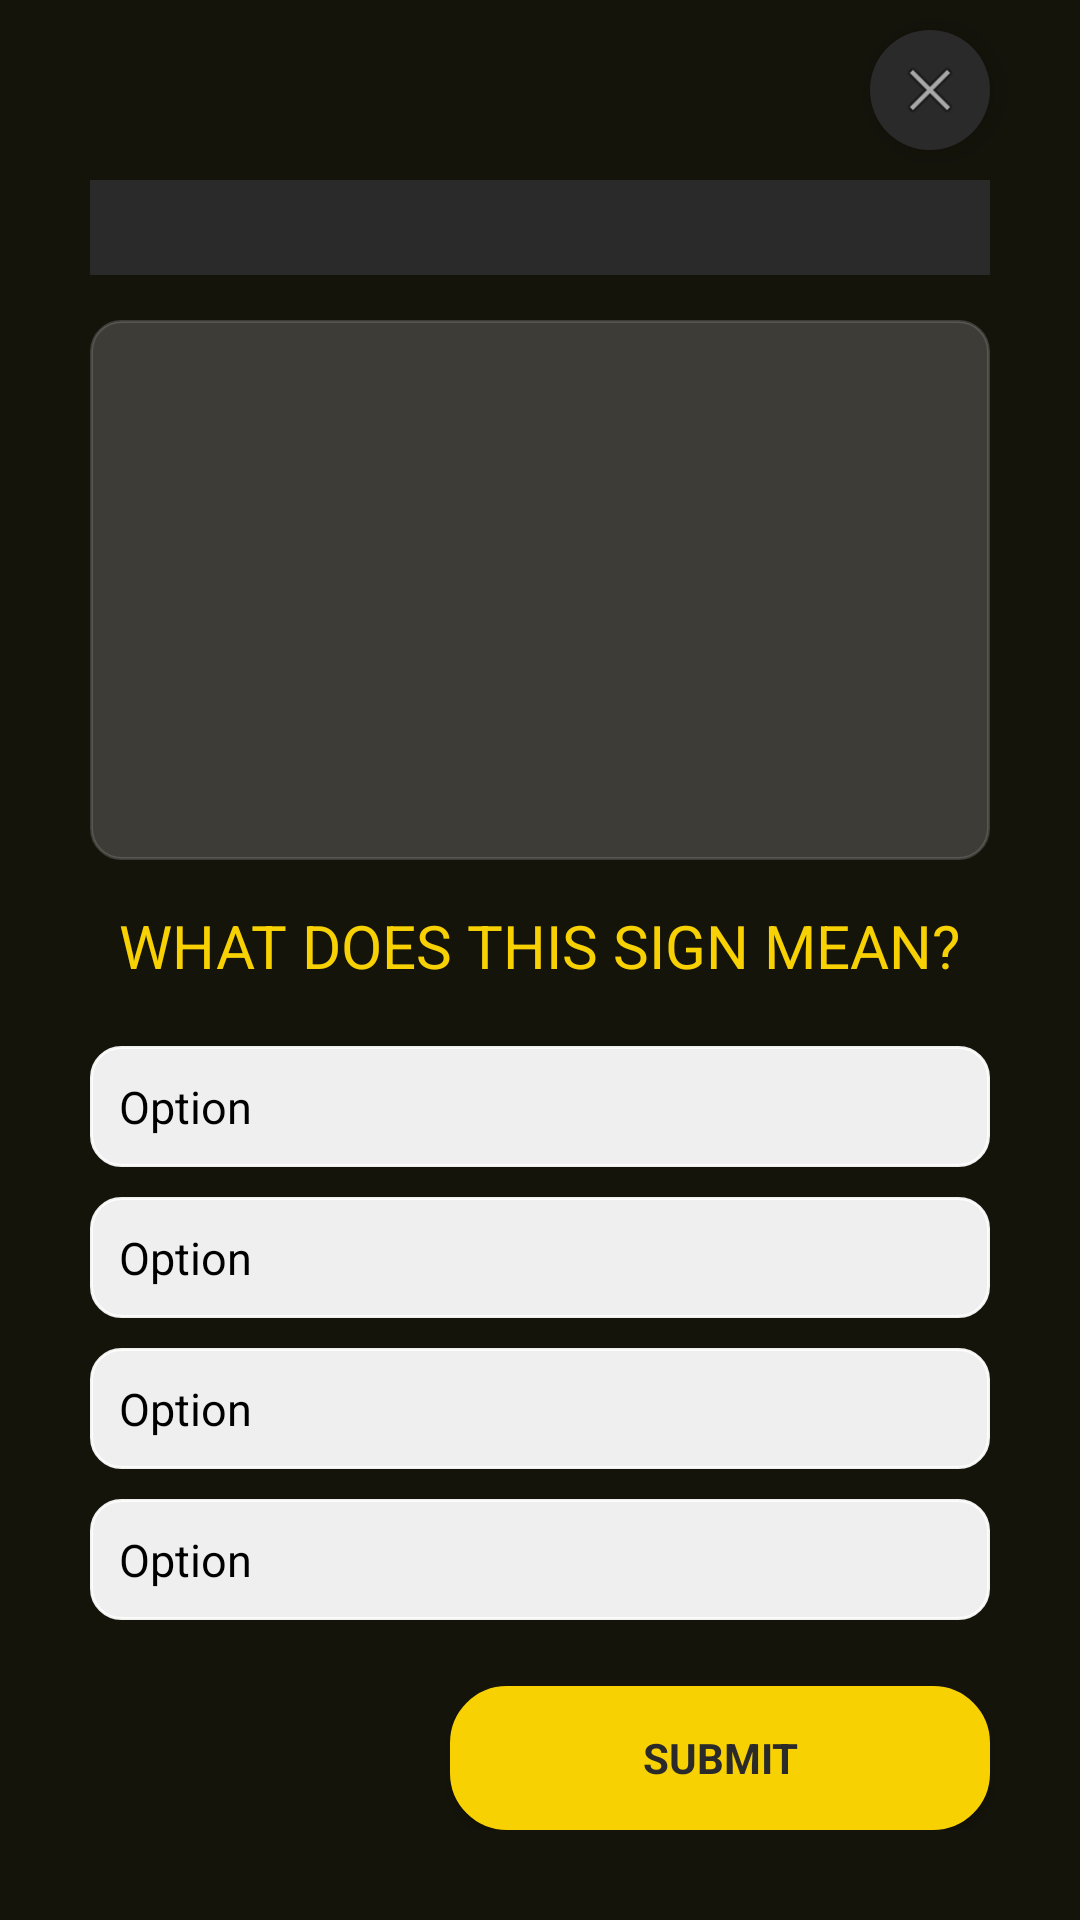

Icons on this 1080px×1920px Android screen, each with its box as box=[x1, y1, x2, y2]:
Quit: box=[870, 30, 990, 150]
